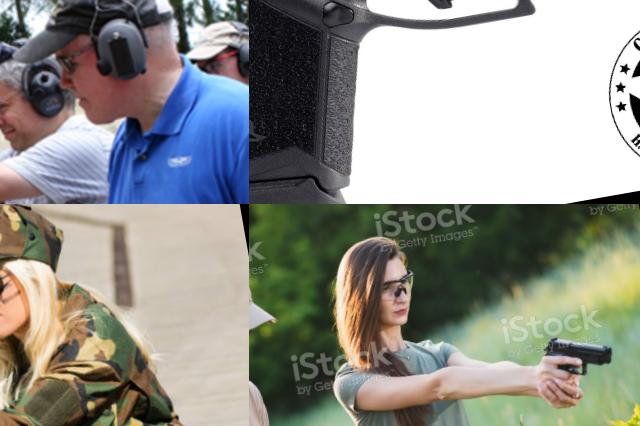handgun: (249, 0, 640, 204), (536, 327, 622, 407), (0, 306, 57, 383), (0, 141, 48, 200)
